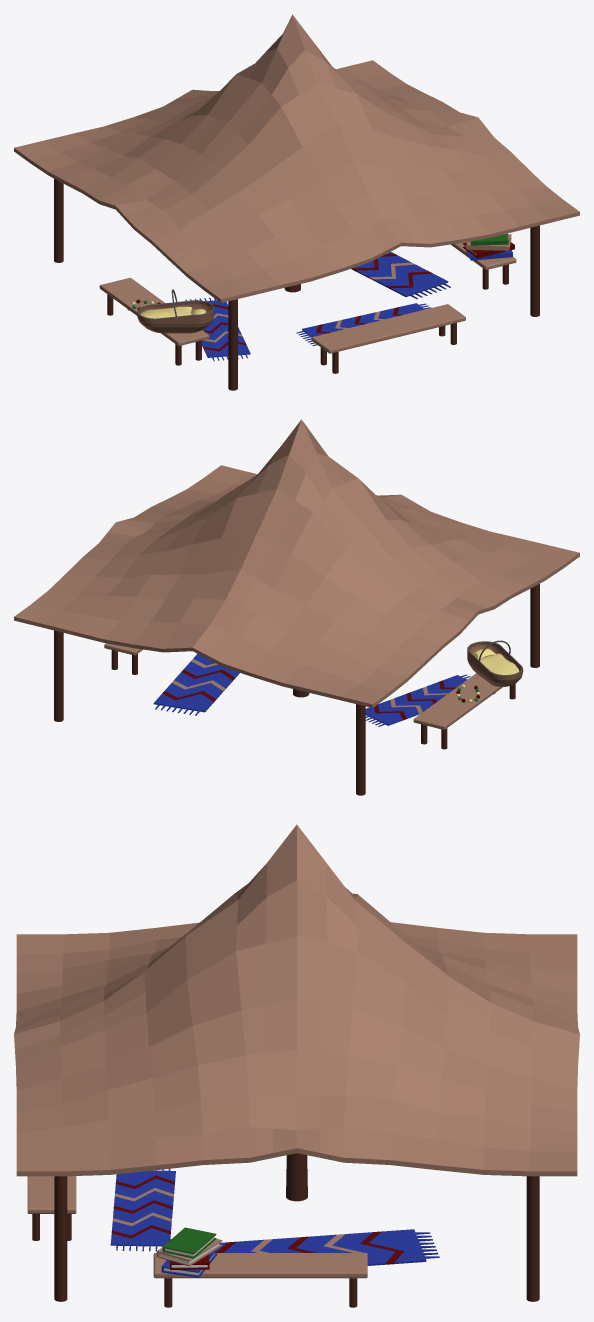
Rendered from Family_archive.fbx.
3 renders of one model, top to bottom at view 1: azimuth 30°, elevation 25°; view 2: azimuth 150°, elevation 25°; view 3: azimuth 270°, elevation 25°, orthographic. The views are drawn at different scales.
Parts seen in each view (by area): view 1: Family_archive; view 2: Family_archive; view 3: Family_archive.
Boxes of the visible parts, box(x1,y1,x2,y2) form: Family_archive: box(14, 14, 579, 390); Family_archive: box(14, 419, 579, 795); Family_archive: box(14, 824, 579, 1307).
Bounding box in the file's own units: 169 × 119 × 165.
